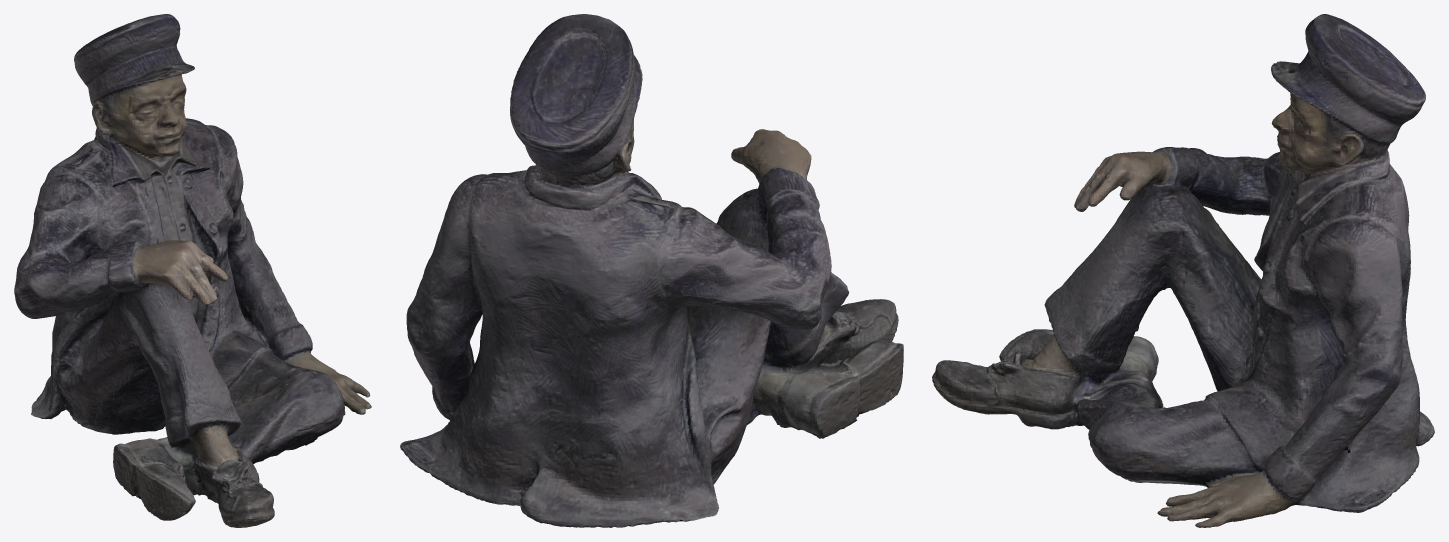
The model's file is khanna-untitled-seated-man.glb.
The picture shows the model from 3 angles, left to right: view 1: azimuth 30°, elevation 25°; view 2: azimuth 150°, elevation 25°; view 3: azimuth 270°, elevation 25°; orthographic projection. The views are drawn at different scales.
Parts seen in each view (by area): view 1: 12_Krishna_Khanna_ Baked; view 2: 12_Krishna_Khanna_ Baked; view 3: 12_Krishna_Khanna_ Baked.
Part boxes in pixels (bbox=[...]): 12_Krishna_Khanna_ Baked: bbox=[14, 14, 371, 527]; 12_Krishna_Khanna_ Baked: bbox=[400, 14, 903, 527]; 12_Krishna_Khanna_ Baked: bbox=[932, 14, 1434, 527].
Bounding box in the file's own units: 0.4517 × 0.5 × 0.5464.
1 material, 1 textured.
